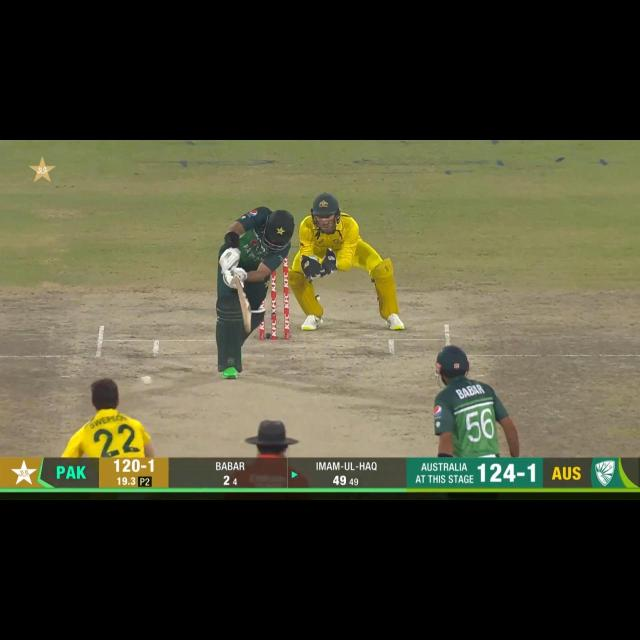bat: (227, 277, 260, 337)
toe: (241, 313, 254, 335)
